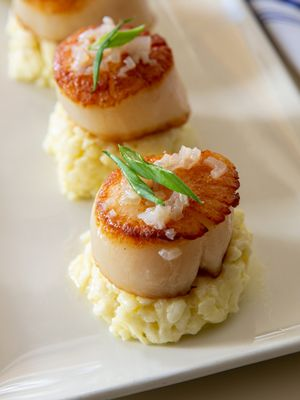soup: (79, 142, 253, 347), (43, 12, 192, 203), (48, 17, 192, 145)
